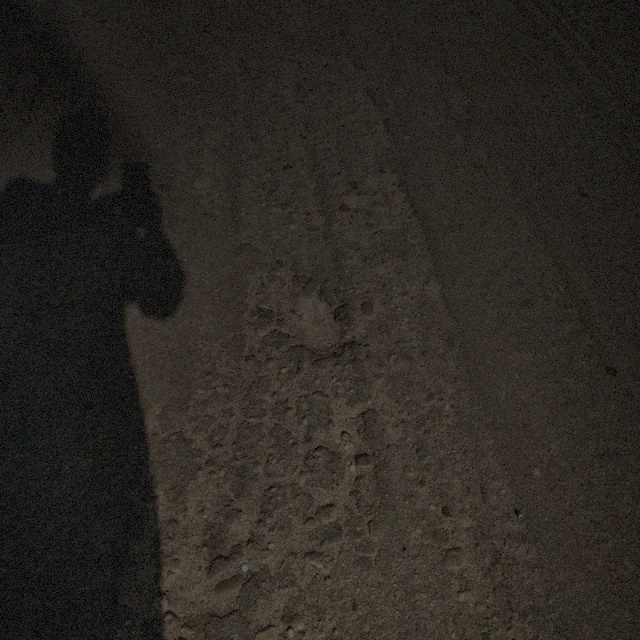pothole: (270, 288, 353, 362)
